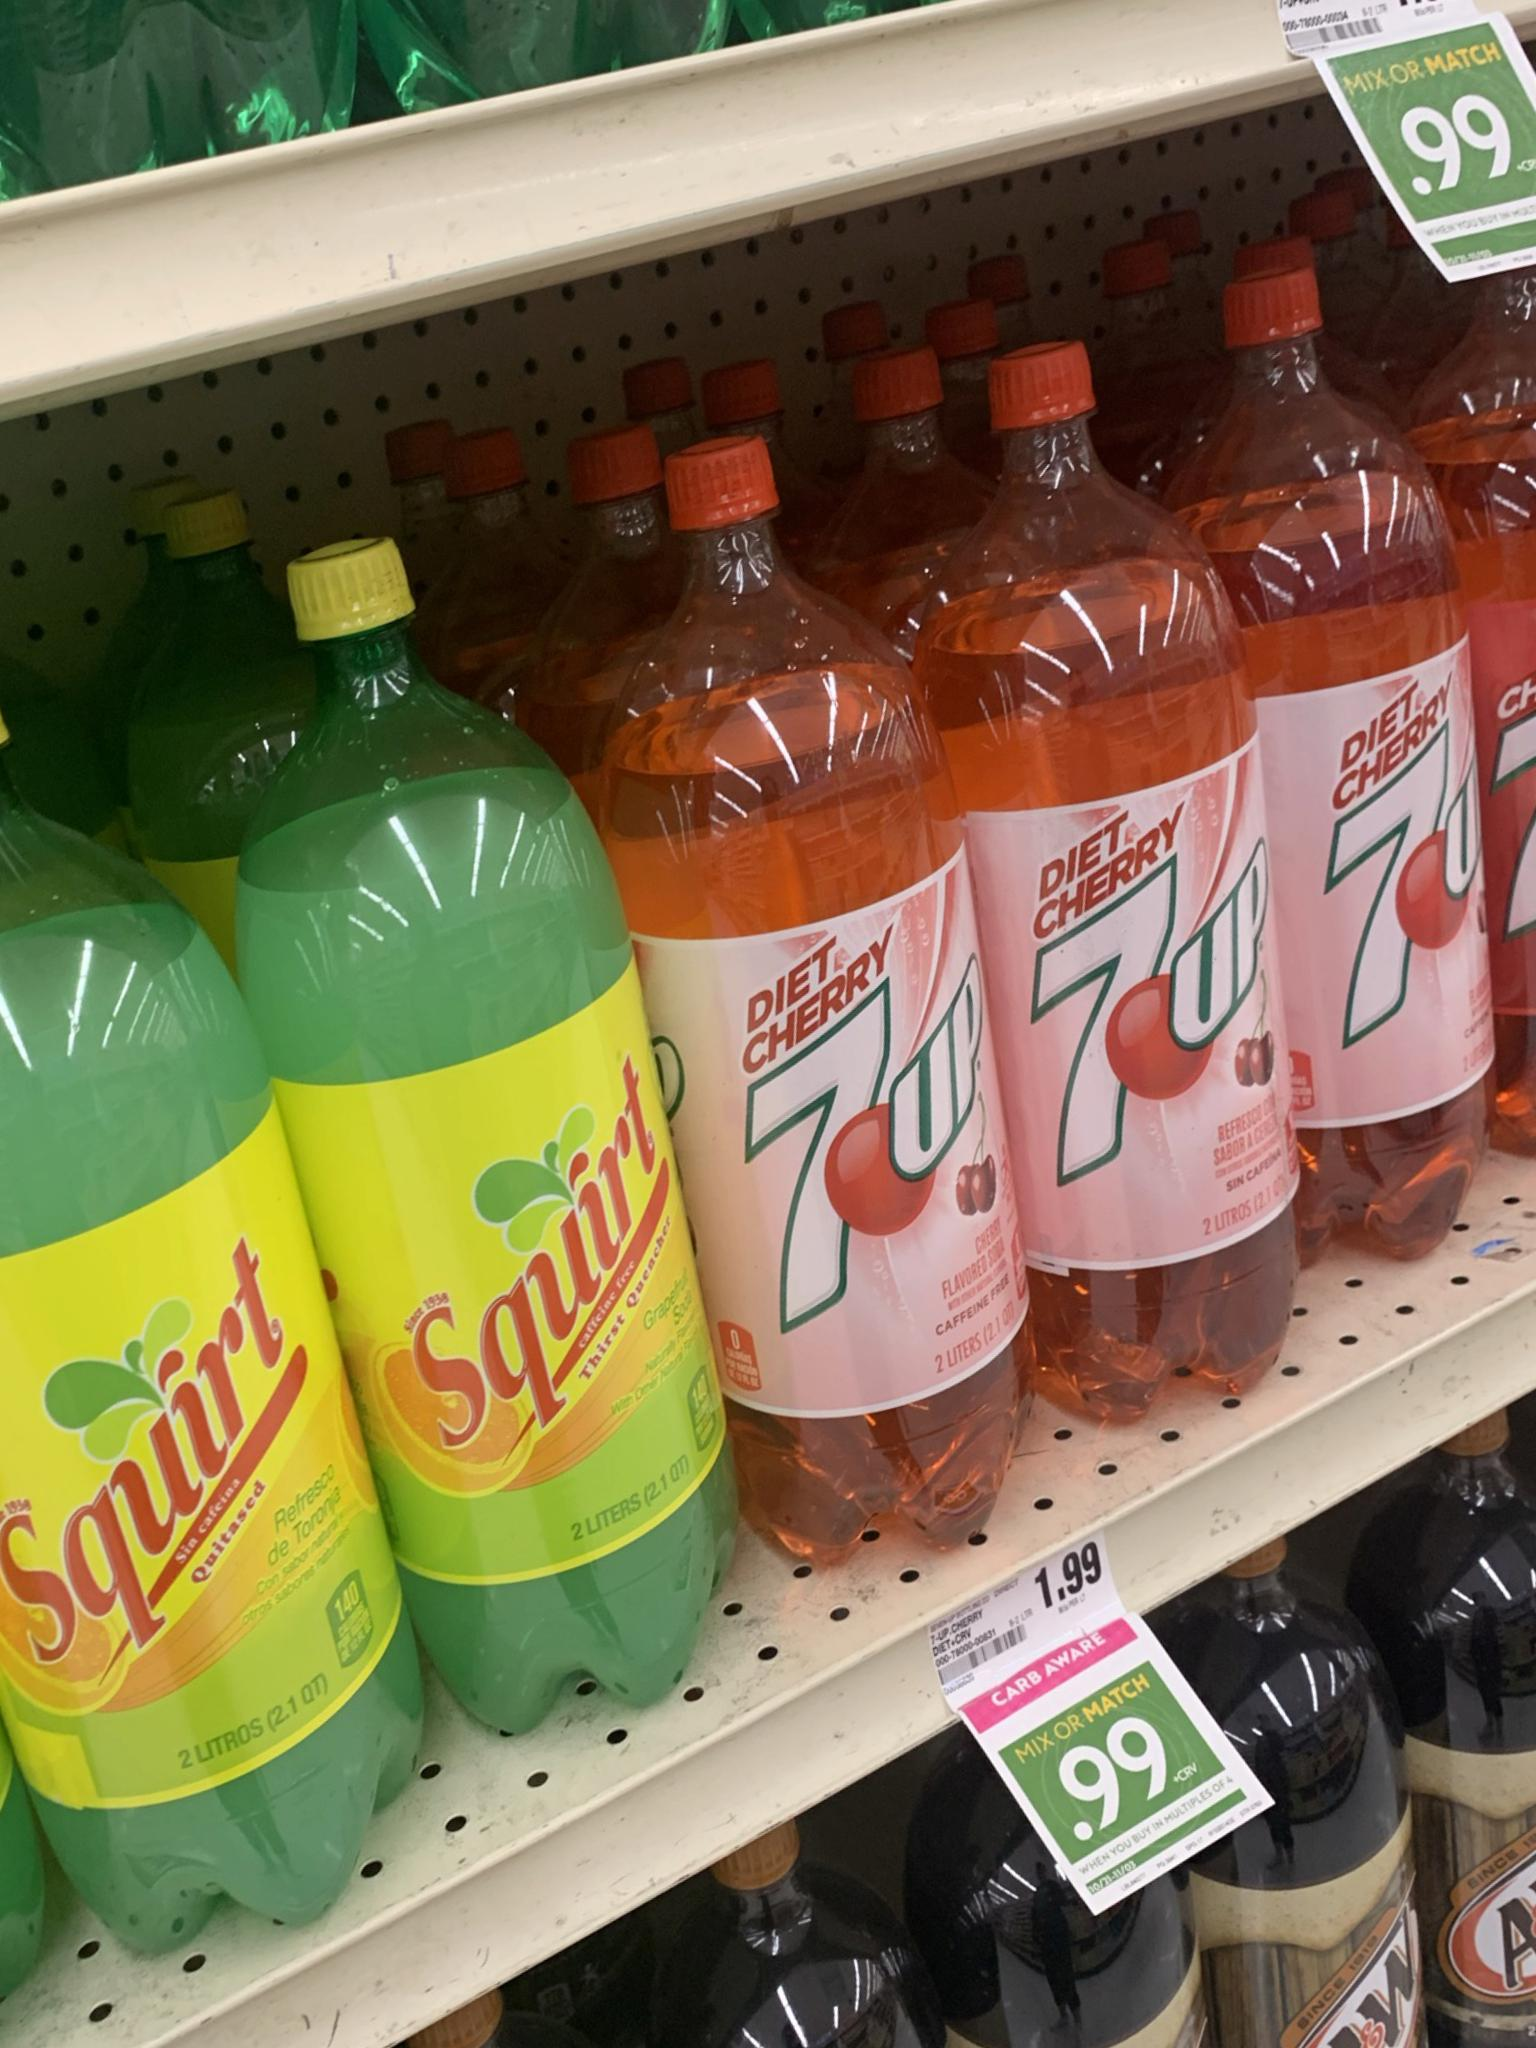soda: (181, 550, 745, 1706), (574, 440, 1050, 1571), (862, 376, 1297, 1387), (1142, 260, 1536, 1266)
